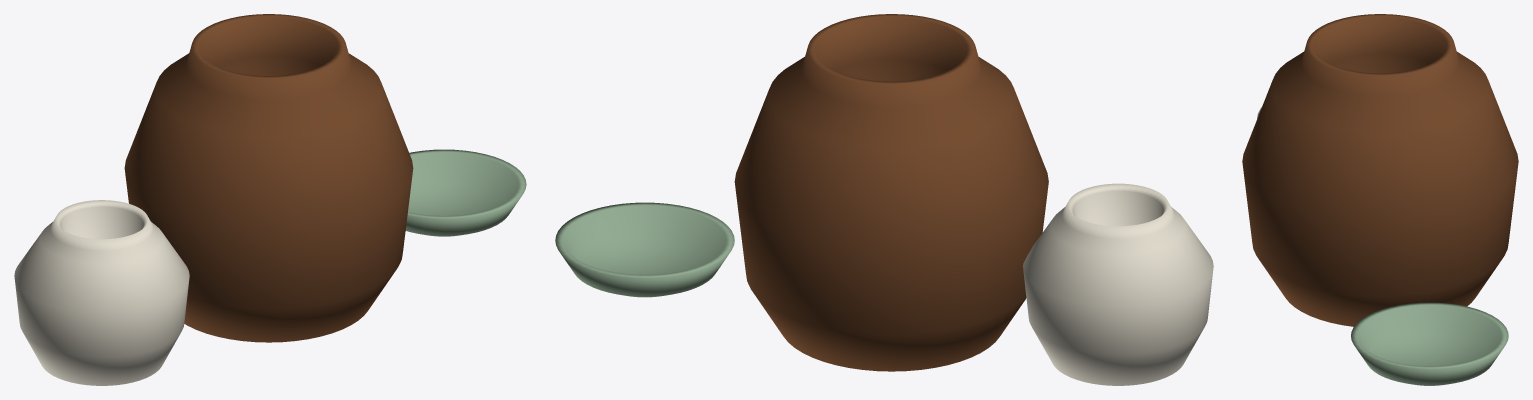
The model's file is ceramics-set.glb.
The picture shows the model from 3 angles, left to right: view 1: azimuth 30°, elevation 25°; view 2: azimuth 150°, elevation 25°; view 3: azimuth 270°, elevation 25°; orthographic projection. The views are drawn at different scales.
Visible parts, largest first — view 1: jar, pot, bowl; view 2: jar, pot, bowl; view 3: jar, bowl.
Part boxes in pixels (bbox=[...]): jar: bbox=[124, 14, 413, 342]; pot: bbox=[14, 200, 189, 385]; bowl: bbox=[405, 149, 526, 236]; jar: bbox=[734, 14, 1048, 371]; pot: bbox=[1023, 183, 1213, 385]; bowl: bbox=[555, 202, 734, 297]; jar: bbox=[1242, 14, 1518, 326]; bowl: bbox=[1351, 302, 1508, 385].
Size of the model in its own units: 1.2 by 0.54 by 0.56.
